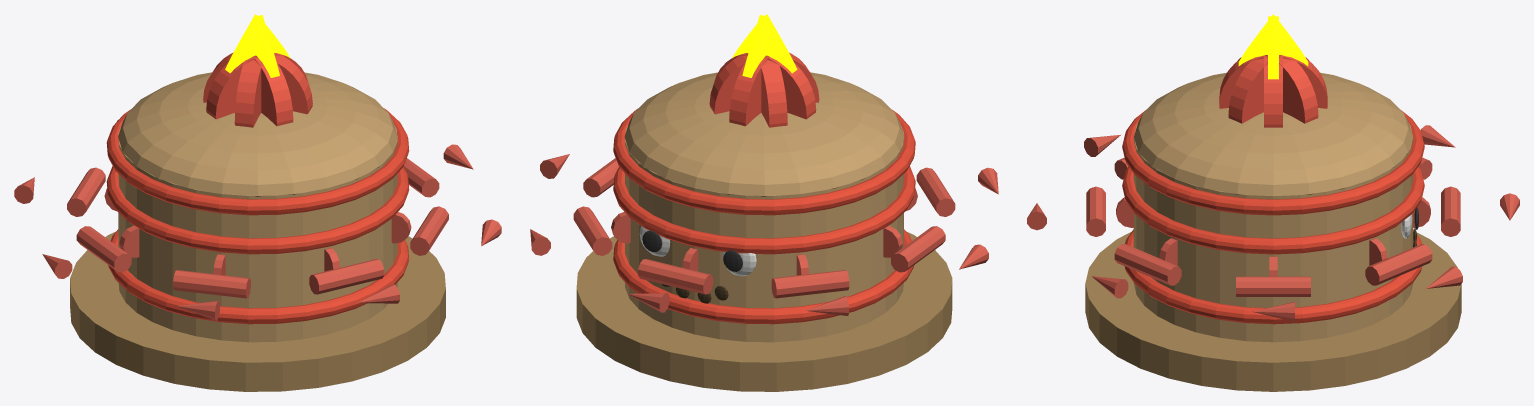
File: tack100.fbx
3 views of the same model, side by side, from view 1: azimuth 30°, elevation 25°; view 2: azimuth 150°, elevation 25°; view 3: azimuth 270°, elevation 25° (orthographic).
Parts seen in each view (by area): view 1: Base, TopCap, Barrel, Band_Top, Band_Mid, Band_Low, TackShaft_5, TackShaft_6, Disk_01, Disk_02, Disk_00, TackShaft_4 (+15 smaller); view 2: Base, TopCap, Barrel, Band_Top, Band_Mid, Band_Low, TackShaft_3, TackShaft_2, Disk_02, Disk_03, TackShaft_4, Disk_00 (+15 smaller); view 3: Base, TopCap, Barrel, Band_Top, Band_Mid, Band_Low, Disk_03, Disk_01, TackShaft_0, TackShaft_1, TackShaft_7, Disk_02 (+10 smaller).
Part boxes in pixels (x1=…): Base: x1=70, y1=231, x2=445, y2=391; TopCap: x1=118, y1=72, x2=397, y2=196; Barrel: x1=118, y1=123, x2=397, y2=342; Band_Top: x1=106, y1=108, x2=409, y2=215; Band_Mid: x1=106, y1=166, x2=409, y2=254; Band_Low: x1=108, y1=229, x2=409, y2=324; TackShaft_5: x1=173, y1=270, x2=250, y2=298; TackShaft_6: x1=309, y1=259, x2=384, y2=294; Disk_01: x1=234, y1=59, x2=262, y2=127; Disk_02: x1=253, y1=57, x2=293, y2=125; Disk_00: x1=206, y1=53, x2=308, y2=118; TackShaft_4: x1=76, y1=226, x2=131, y2=272; Base: x1=576, y1=232, x2=952, y2=391; TopCap: x1=624, y1=72, x2=904, y2=196; Barrel: x1=625, y1=124, x2=903, y2=342; Band_Top: x1=613, y1=108, x2=915, y2=215; Band_Mid: x1=613, y1=166, x2=915, y2=254; Band_Low: x1=613, y1=229, x2=914, y2=324; TackShaft_3: x1=771, y1=270, x2=849, y2=298; TackShaft_2: x1=638, y1=259, x2=713, y2=294; Disk_02: x1=729, y1=56, x2=769, y2=126; Disk_03: x1=759, y1=59, x2=787, y2=127; TackShaft_4: x1=891, y1=226, x2=945, y2=272; Disk_00: x1=725, y1=53, x2=816, y2=119; Base: x1=1085, y1=232, x2=1461, y2=391; TopCap: x1=1134, y1=72, x2=1412, y2=196; Barrel: x1=1133, y1=124, x2=1413, y2=342; Band_Top: x1=1122, y1=110, x2=1424, y2=215; Band_Mid: x1=1122, y1=166, x2=1424, y2=254; Band_Low: x1=1124, y1=229, x2=1422, y2=324; Disk_03: x1=1228, y1=55, x2=1281, y2=123; Disk_01: x1=1237, y1=55, x2=1318, y2=123; TackShaft_0: x1=1236, y1=276, x2=1310, y2=296; TackShaft_1: x1=1365, y1=244, x2=1432, y2=285; TackShaft_7: x1=1114, y1=244, x2=1181, y2=285; Disk_02: x1=1219, y1=55, x2=1327, y2=108.
Bounding box in the file's own units: 275 × 182 × 275.
